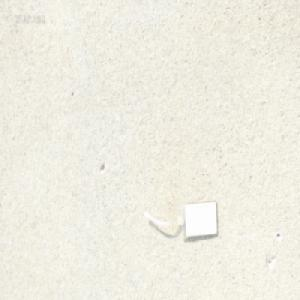LuggageTag: (144, 198, 218, 240)
